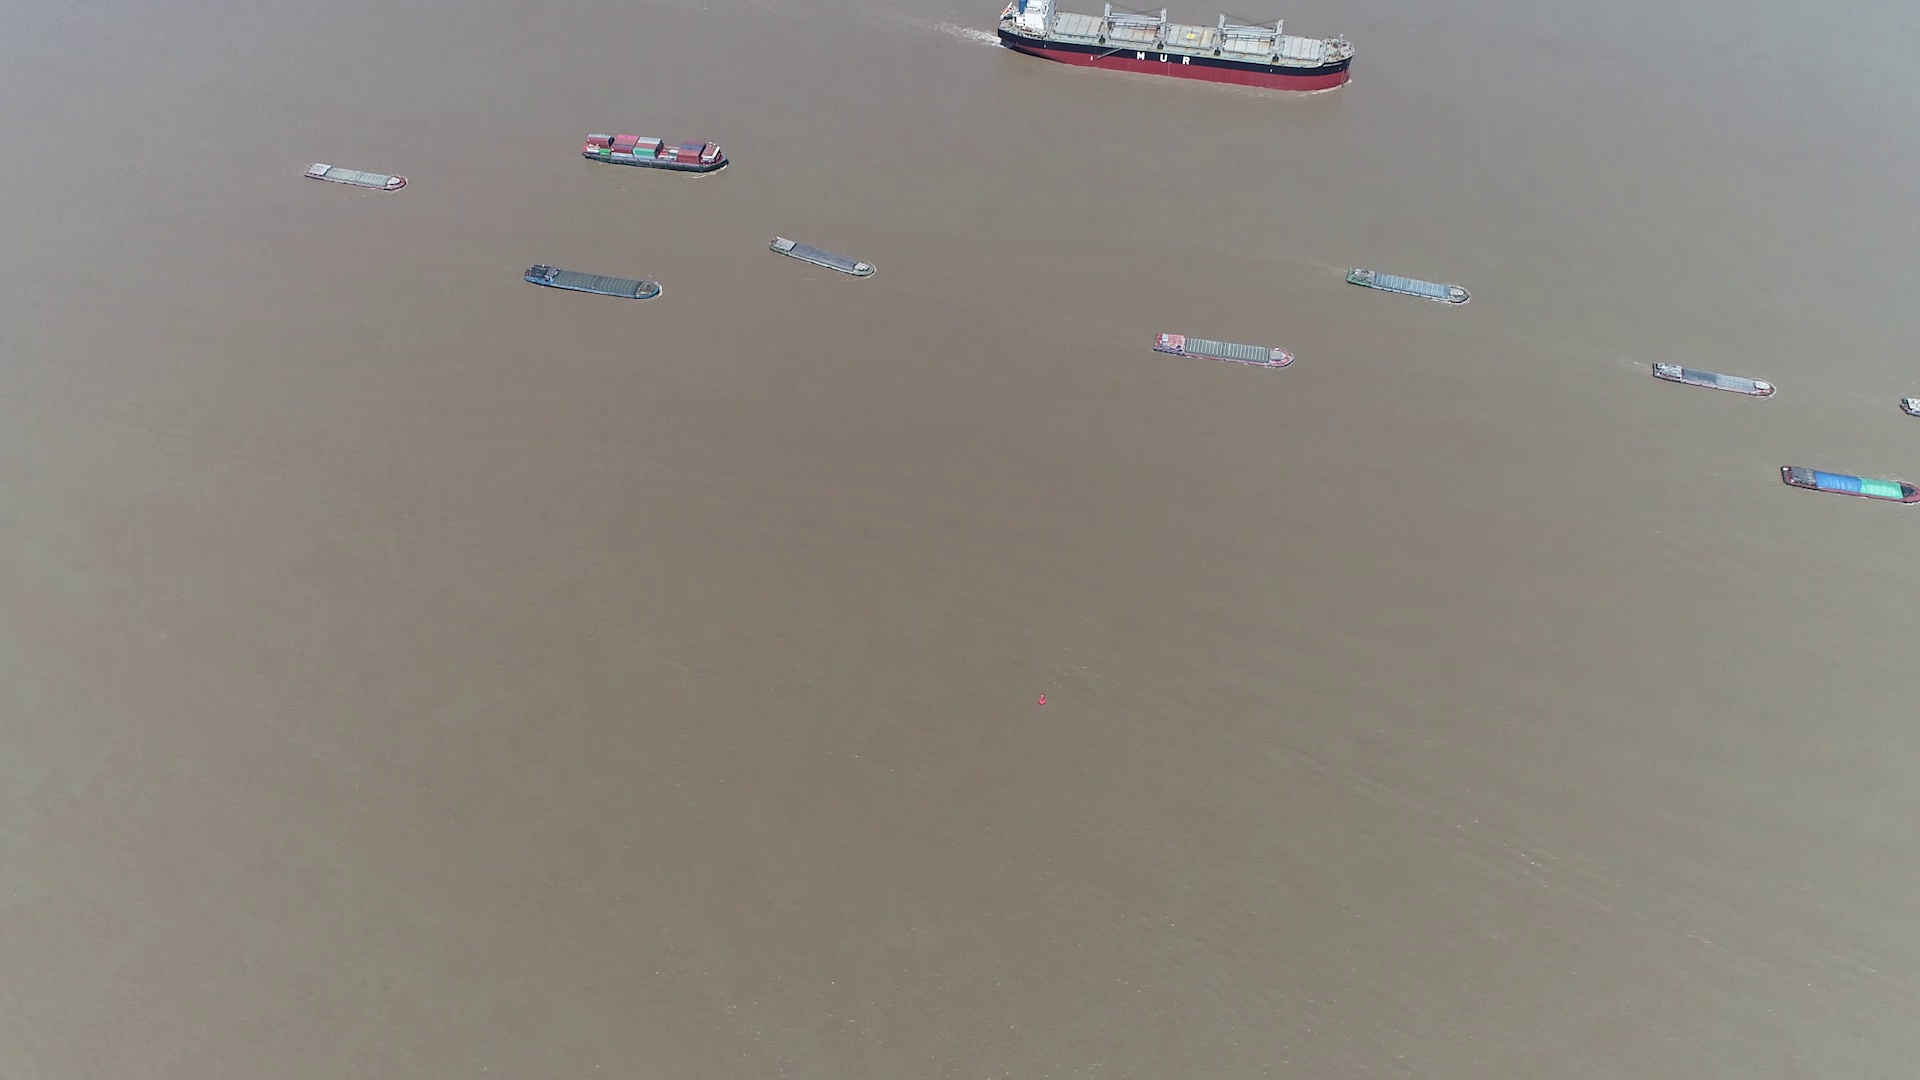ship: (1000, 0, 1352, 92), (582, 135, 729, 173), (1779, 464, 1919, 504), (1154, 330, 1294, 368), (525, 265, 663, 303), (1348, 266, 1468, 305), (1648, 361, 1775, 397), (769, 240, 876, 281), (305, 162, 407, 193)
